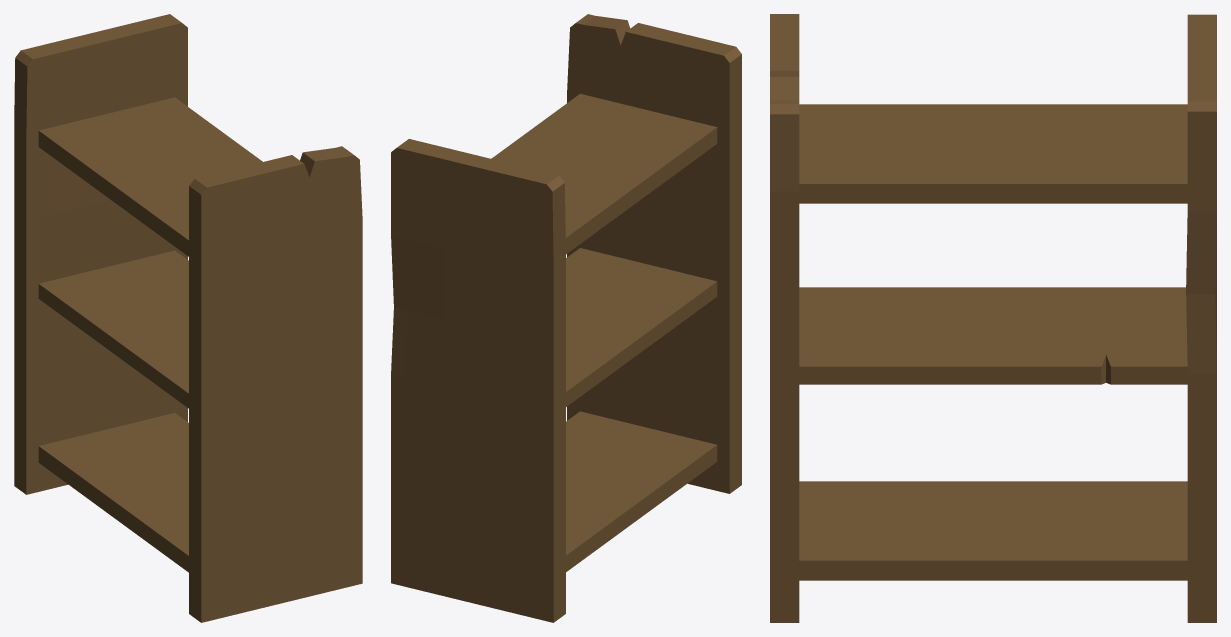
File: bookshelf_1.glb
3 views of the same model, side by side, from view 1: azimuth 30°, elevation 25°; view 2: azimuth 150°, elevation 25°; view 3: azimuth 270°, elevation 25° (orthographic). The views are drawn at different scales.
Parts seen in each view (by area): view 1: bookshelf_1; view 2: bookshelf_1; view 3: bookshelf_1.
Part boxes in pixels (x1=…): bookshelf_1: x1=14, y1=14, x2=362, y2=622; bookshelf_1: x1=391, y1=14, x2=741, y2=622; bookshelf_1: x1=770, y1=14, x2=1216, y2=622.
Size of the model in its own units: 0.4671 by 1.2 by 0.938.
